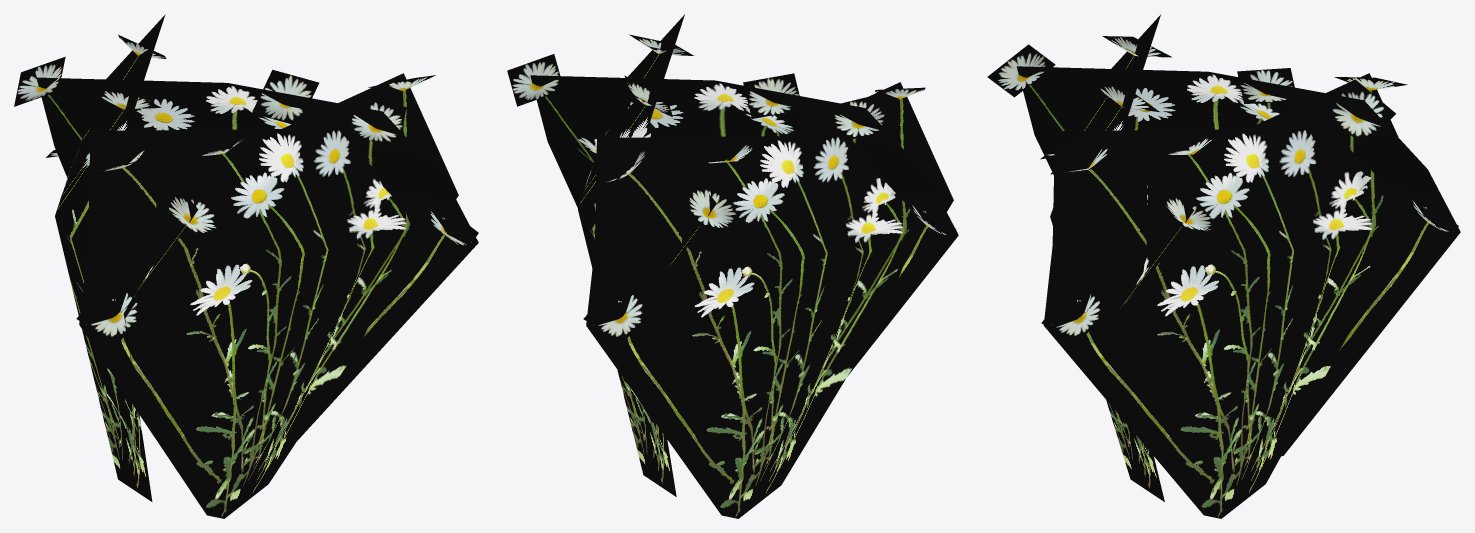
The model's file is m_flower32.fbx.
The picture shows the model from 3 angles, left to right: view 1: azimuth 30°, elevation 25°; view 2: azimuth 150°, elevation 25°; view 3: azimuth 270°, elevation 25°; orthographic projection. The views are drawn at different scales.
Parts seen in each view (by area): view 1: mesh_flower32; view 2: mesh_flower32; view 3: mesh_flower32.
Boxes of the visible parts, x1,y1,x2,y2 form: mesh_flower32: [14, 14, 478, 518]; mesh_flower32: [507, 14, 958, 518]; mesh_flower32: [987, 14, 1460, 518].
Bounding box in the file's own units: 0.5279 × 0.4969 × 0.5236.
Materials: 1 (1 with a texture image).
